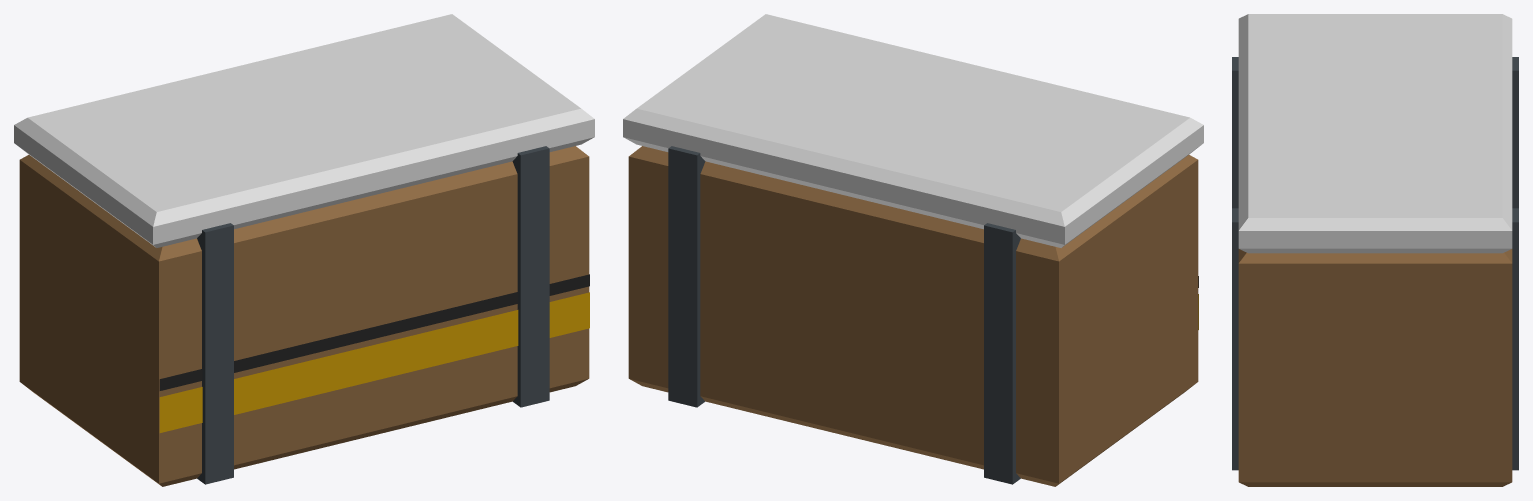
Rendered from chest.fbx.
3 renders of one model, left to right at view 1: azimuth 30°, elevation 25°; view 2: azimuth 150°, elevation 25°; view 3: azimuth 270°, elevation 25°, orthographic.
Visible parts, largest first — view 1: chest, Lid; view 2: chest, Lid; view 3: chest, Lid.
Boxes of the visible parts, bbox=[...] form: chest: bbox=[19, 146, 589, 486]; Lid: bbox=[14, 14, 594, 247]; chest: bbox=[628, 146, 1198, 486]; Lid: bbox=[623, 14, 1203, 247]; chest: bbox=[1232, 57, 1518, 486]; Lid: bbox=[1238, 14, 1512, 253].
Size of the model in its own units: 1.54 by 0.92 by 0.88.
